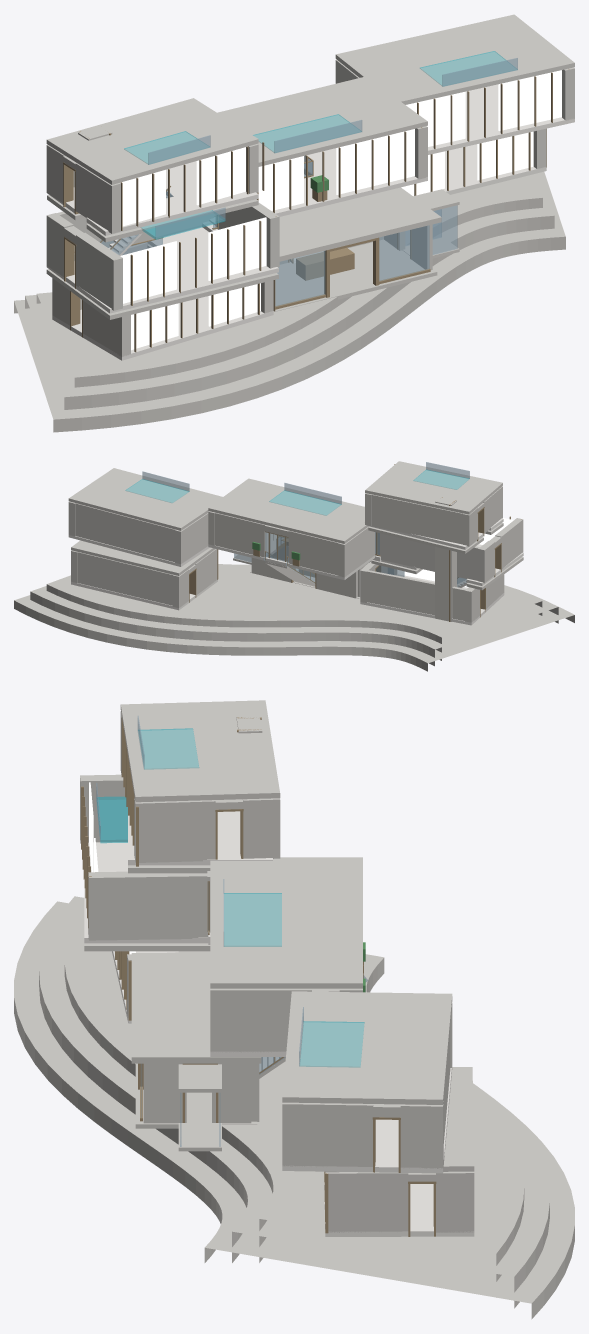
Rendered from villa.glb.
3 renders of one model, top to bottom at view 1: azimuth 30°, elevation 25°; view 2: azimuth 150°, elevation 25°; view 3: azimuth 270°, elevation 25°, orthographic. The views are drawn at different scales.
Parts seen in each view (by area): view 1: Podium_Step_0, Podium_Step_1, Podium_Step_2, Suite_02_West_Upper_Ceiling_Slab, Suite_03_SkyBridge_Ceiling_Slab, Suite_06_East_Upper_Ceiling_Slab, Reception_Roof_Slab, Reception_Floor_Slab, Suite_03_SkyBridge_Front_Glass_Left, Suite_02_West_Upper_Front_Glass_Left, Suite_05_East_Mid_Floor_Main, Suite_05_East_Mid_Side_1_Front (+44 smaller); view 2: Podium_Step_2, Podium_Step_0, Podium_Step_1, Suite_03_SkyBridge_Ceiling_Slab, Suite_02_West_Upper_Ceiling_Slab, Suite_06_East_Upper_Ceiling_Slab, Suite_02_West_Upper_Rear_Wall, Suite_01_West_Lower_Rear_Wall, Suite_06_East_Upper_Rear_Wall, Suite_04_East_Lower_Rear_Wall, Suite_05_East_Mid_Rear_Wall, Suite_03_SkyBridge_Rear_Wall_Left (+31 smaller); view 3: Podium_Step_0, Suite_03_SkyBridge_Ceiling_Slab, Podium_Step_2, Podium_Step_1, Suite_02_West_Upper_Ceiling_Slab, Suite_06_East_Upper_Ceiling_Slab, Reception_Roof_Slab, Suite_05_East_Mid_Side_-1_Front, Suite_02_West_Upper_Side_-1_Front, Suite_03_SkyBridge_Side_-1_Front, Suite_01_West_Lower_Side_-1_Front, Suite_06_East_Upper_Side_-1_Front (+19 smaller).
Part boxes in pixels (box(x1,y1,x2,y2)): Podium_Step_0: box(14, 171, 565, 432); Podium_Step_1: box(25, 173, 554, 409); Podium_Step_2: box(36, 174, 542, 387); Suite_02_West_Upper_Ceiling_Slab: box(335, 14, 574, 104); Suite_03_SkyBridge_Ceiling_Slab: box(217, 76, 427, 166); Suite_06_East_Upper_Ceiling_Slab: box(46, 98, 258, 184); Reception_Roof_Slab: box(279, 187, 441, 261); Reception_Floor_Slab: box(273, 239, 437, 311); Suite_03_SkyBridge_Front_Glass_Left: box(336, 129, 414, 194); Suite_02_West_Upper_Front_Glass_Left: box(498, 70, 561, 130); Suite_05_East_Mid_Floor_Main: box(62, 239, 278, 313); Suite_05_East_Mid_Side_1_Front: box(76, 232, 122, 310); Podium_Step_2: box(46, 564, 542, 660); Podium_Step_0: box(14, 595, 574, 671); Podium_Step_1: box(30, 585, 558, 666); Suite_03_SkyBridge_Ceiling_Slab: box(208, 478, 368, 543); Suite_02_West_Upper_Ceiling_Slab: box(68, 468, 222, 530); Suite_06_East_Upper_Ceiling_Slab: box(365, 461, 502, 514); Suite_02_West_Upper_Rear_Wall: box(75, 503, 179, 562); Suite_01_West_Lower_Rear_Wall: box(77, 552, 177, 605); Suite_06_East_Upper_Rear_Wall: box(366, 493, 468, 544); Suite_04_East_Lower_Rear_Wall: box(362, 569, 471, 620); Suite_05_East_Mid_Rear_Wall: box(377, 533, 484, 580); Suite_03_SkyBridge_Rear_Wall_Left: box(209, 511, 265, 557); Podium_Step_0: box(14, 901, 574, 1319); Suite_03_SkyBridge_Ceiling_Slab: box(210, 857, 362, 988); Podium_Step_2: box(64, 906, 524, 1281); Podium_Step_1: box(39, 896, 549, 1308); Suite_02_West_Upper_Ceiling_Slab: box(282, 991, 452, 1104); Suite_06_East_Upper_Ceiling_Slab: box(120, 700, 280, 802); Reception_Roof_Slab: box(131, 953, 261, 1063); Suite_05_East_Mid_Side_-1_Front: box(88, 871, 210, 940); Suite_02_West_Upper_Side_-1_Front: box(282, 1102, 373, 1167); Suite_03_SkyBridge_Side_-1_Front: box(210, 988, 311, 1052); Suite_01_West_Lower_Side_-1_Front: box(325, 1172, 408, 1232); Suite_06_East_Upper_Side_-1_Front: box(134, 798, 215, 862).
Bounding box in the file's own units: 48.55 × 15.7 × 28.61.
